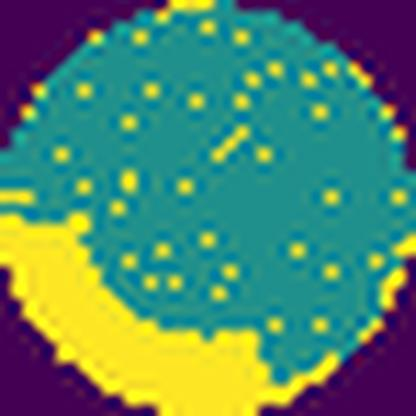Edge-Loc: (0, 210, 344, 415)
